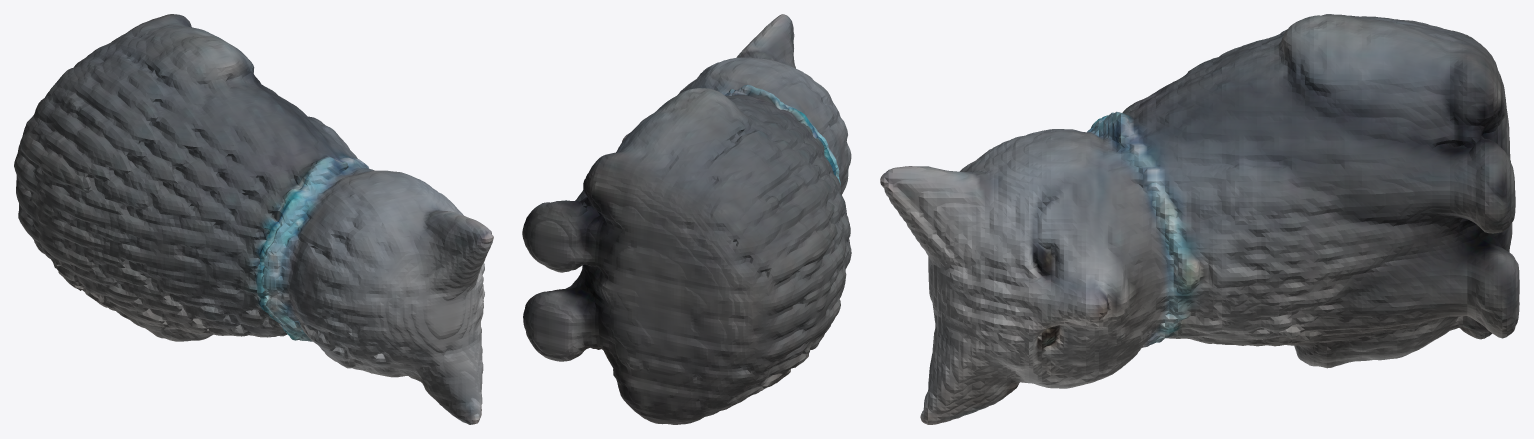
3 views of the same model, side by side, from view 1: azimuth 30°, elevation 25°; view 2: azimuth 150°, elevation 25°; view 3: azimuth 270°, elevation 25° (orthographic). The views are drawn at different scales.
Parts seen in each view (by area): view 1: world; view 2: world; view 3: world.
Part boxes in pixels (x1,y1,x2,y2): world: [14, 14, 493, 424]; world: [522, 14, 851, 424]; world: [880, 14, 1519, 424].
Bounding box in the file's own units: 0.6795 × 0.6062 × 0.9954.
